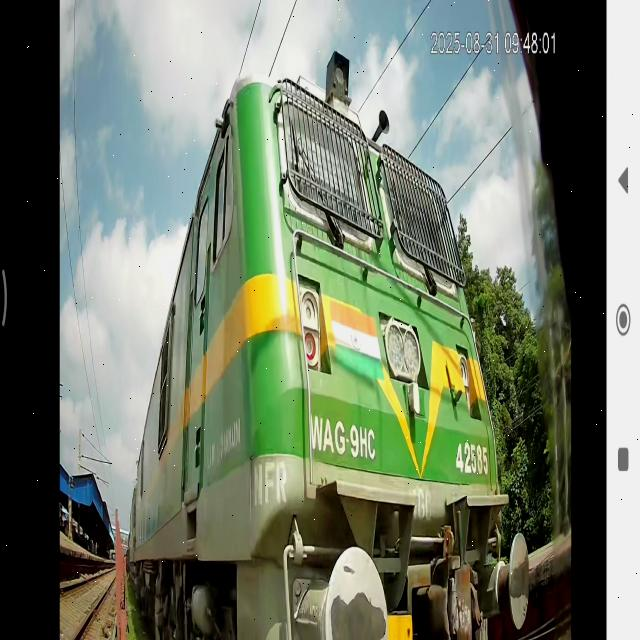engine: (115, 0, 511, 640)
